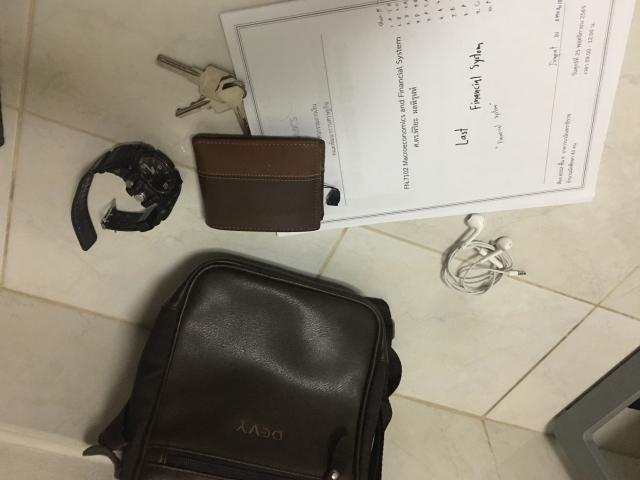Keys: (156, 55, 250, 135)
Wallet: (192, 134, 325, 232)
Watch: (71, 142, 182, 250)
paper: (221, 0, 635, 238)
wire: (84, 259, 401, 479), (442, 214, 525, 294)
